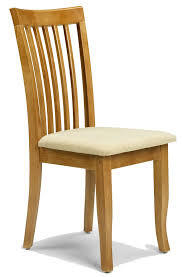chair: (8, 5, 177, 274)
